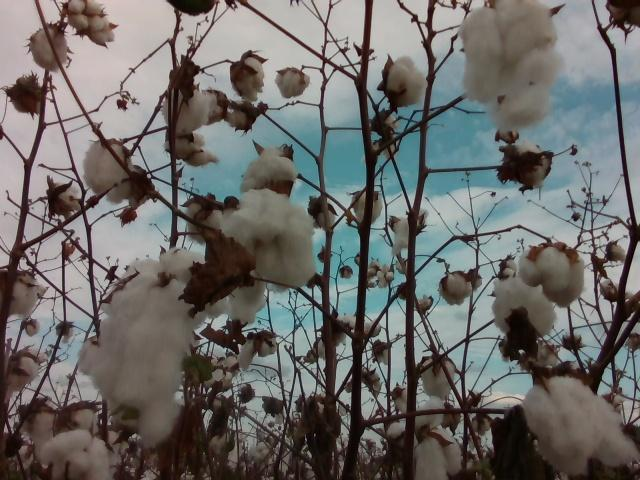cotton_ready: (83, 246, 231, 447), (461, 0, 564, 135), (523, 376, 640, 476), (220, 190, 316, 293), (388, 395, 463, 480), (492, 275, 558, 336), (519, 248, 586, 308), (39, 430, 112, 480), (84, 138, 135, 204), (240, 146, 298, 195), (162, 85, 211, 132), (507, 140, 552, 190), (229, 269, 268, 326), (66, 0, 114, 44), (22, 398, 61, 451), (389, 55, 429, 106), (165, 133, 222, 167), (7, 349, 49, 392), (0, 271, 39, 316), (392, 208, 427, 256), (31, 26, 68, 71), (183, 199, 221, 240), (101, 430, 131, 478), (233, 57, 263, 102), (57, 405, 100, 436), (438, 270, 475, 306), (422, 358, 456, 397), (203, 353, 237, 391), (241, 335, 278, 369), (12, 76, 43, 115), (47, 180, 79, 214), (351, 192, 383, 225), (276, 69, 311, 98), (202, 92, 227, 124), (309, 204, 337, 230), (224, 106, 254, 129)
